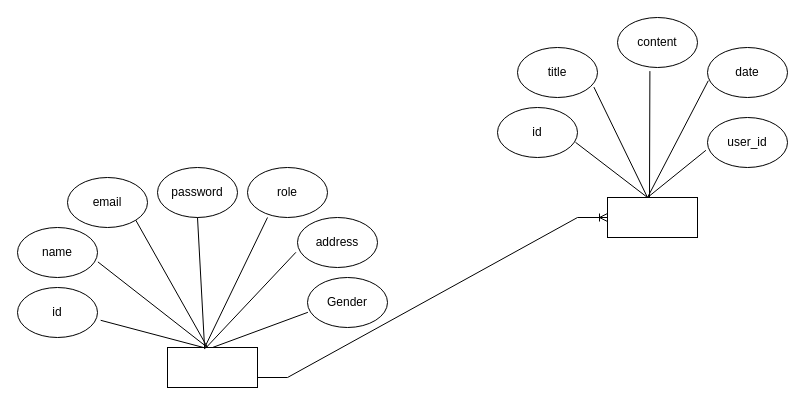
This 805x405 diagram has some shape labels left out. The shapes that lost their labels are listed below. From the top down, each one's centre as x and y in pixels, then its label:
At [652,217]: "Noets".
At [212,367]: "User".
